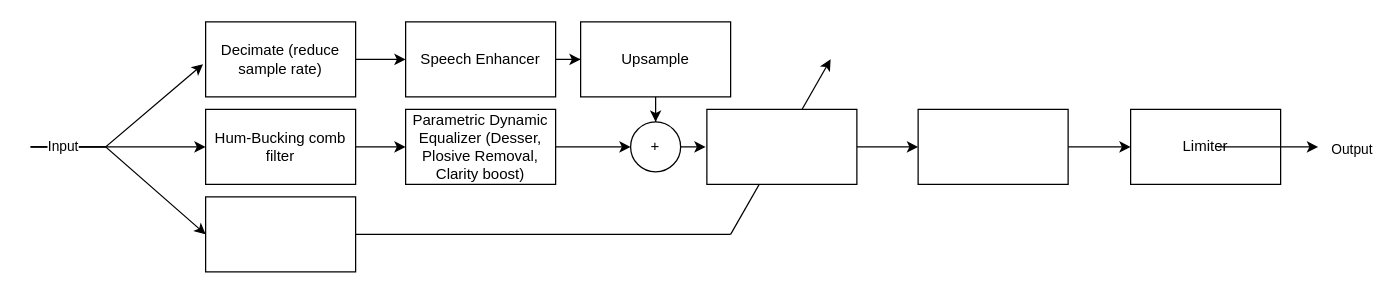
Image size: 1394x294. Some labels were removed from this diagram. The shapes that lost their labels are listed below. From the top down, each one's box as (x1, y1, x2, y2) in pixels, then its label:
(706, 108, 857, 184): Noise Gate
(917, 108, 1068, 184): Compressor
(204, 196, 356, 272): Voice Activity Detector
